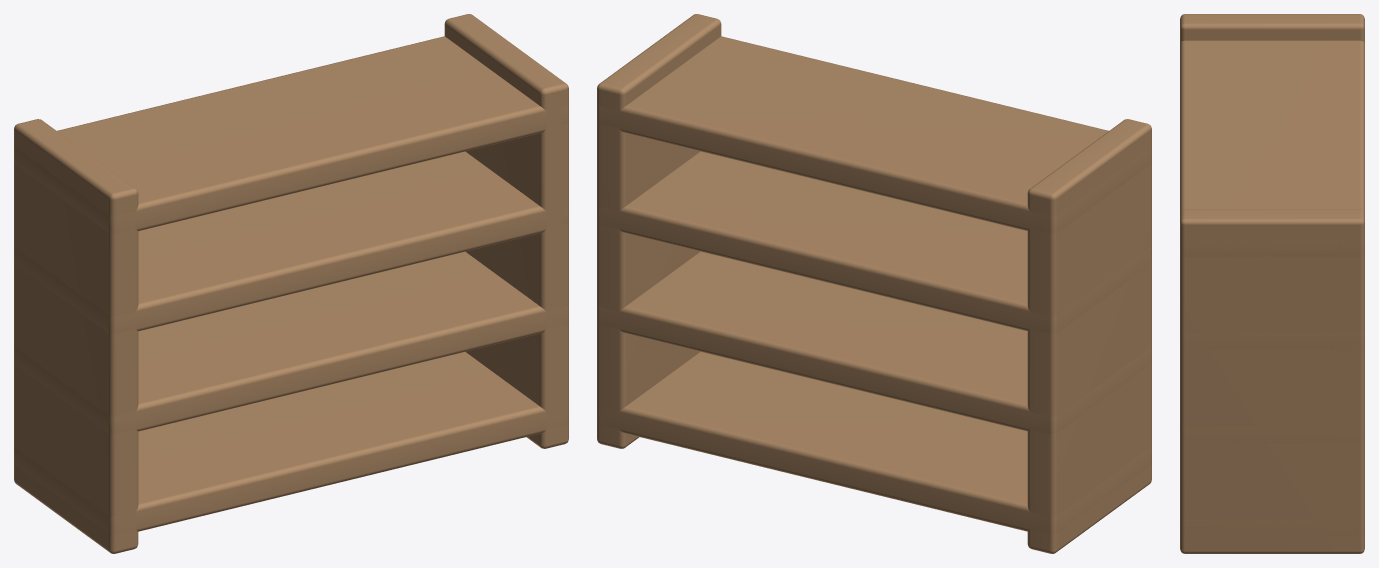
File: atelier-shoe-rack.glb
The picture shows the model from 3 angles, left to right: view 1: azimuth 30°, elevation 25°; view 2: azimuth 150°, elevation 25°; view 3: azimuth 270°, elevation 25°; orthographic projection. The views are drawn at different scales.
Visible parts, largest first — view 1: legs.095; view 2: legs.095; view 3: legs.095.
Boxes of the visible parts, <box> form: legs.095: <box>14,14,568,553</box>; legs.095: <box>597,14,1151,553</box>; legs.095: <box>1180,14,1364,553</box>.
Size of the model in its own units: 0.8 by 0.6 by 0.3.
